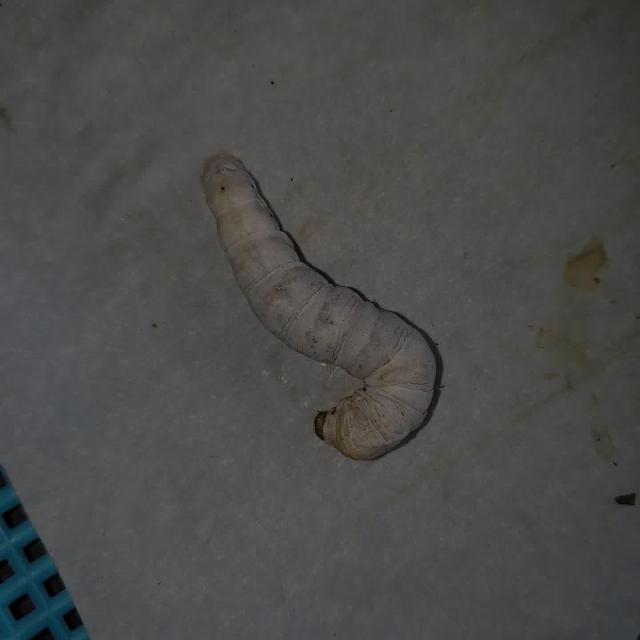Grasserie: (191, 142, 447, 472)
